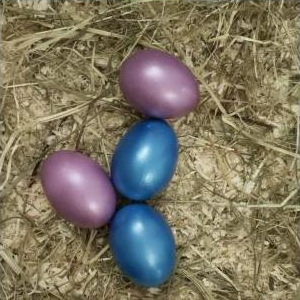egg: (109, 203, 176, 287), (42, 151, 116, 227), (112, 119, 179, 202), (121, 50, 201, 119)
